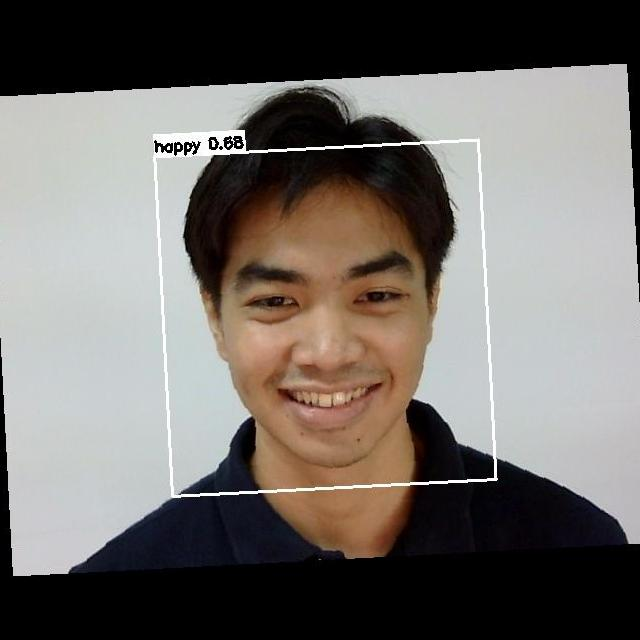Happy: (208, 222, 449, 451)
